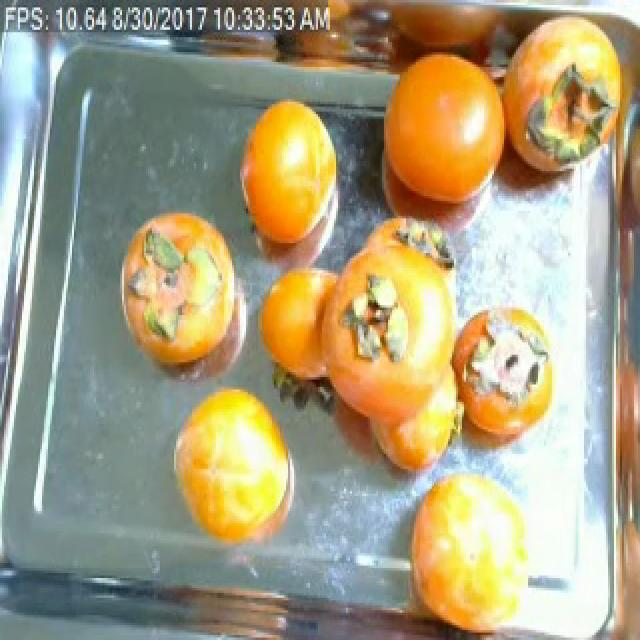Fruit: (394, 454, 550, 640), (160, 372, 308, 566), (112, 198, 246, 380), (226, 89, 350, 263), (246, 253, 372, 399)
